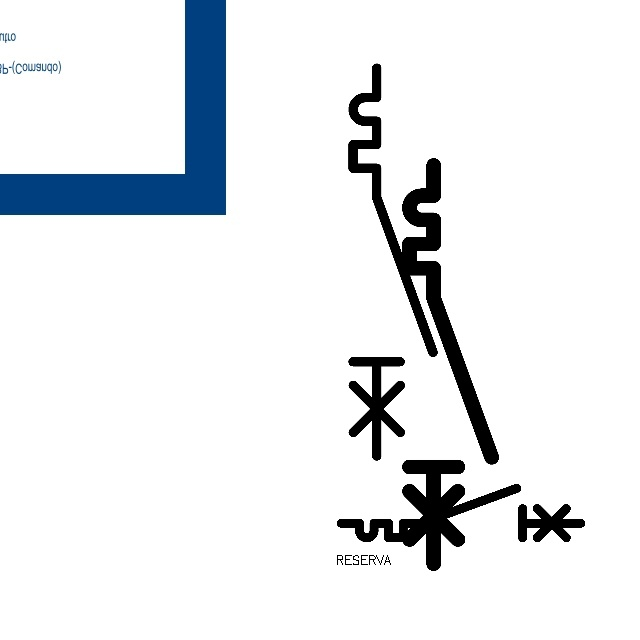interruptor_termomagnetico: (399, 155, 501, 574), (343, 58, 443, 466), (335, 482, 587, 544)
